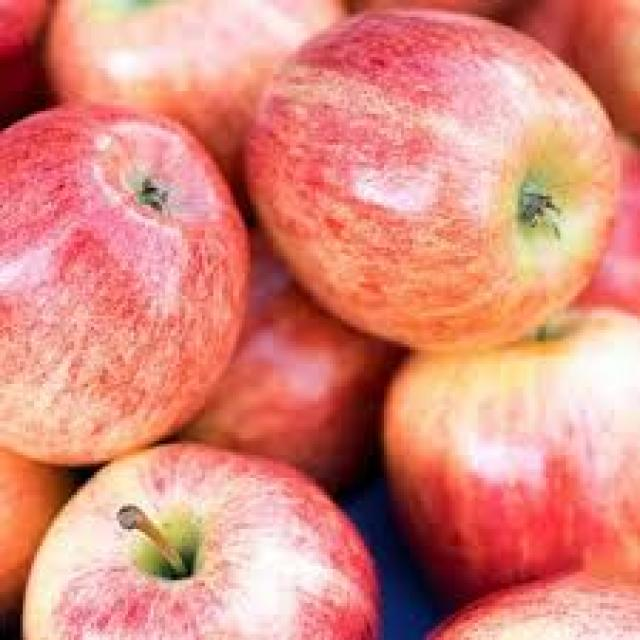apple: (249, 0, 620, 352)
